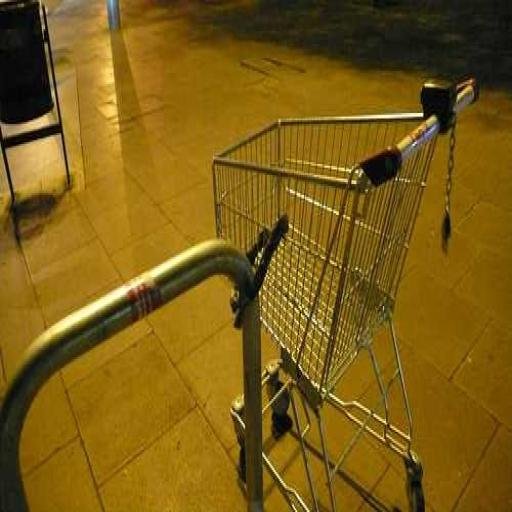shopping_cart: (211, 68, 483, 512)
